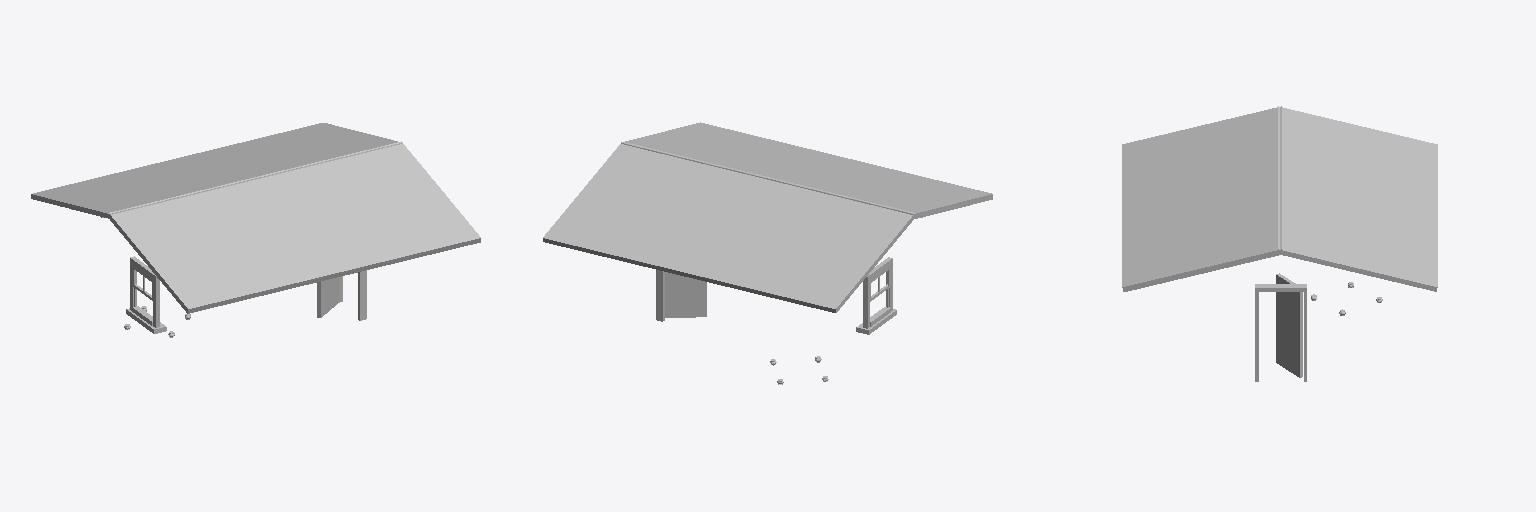
File: LightBrown.obj
3 renders of one model, left to right at view 1: azimuth 30°, elevation 25°; view 2: azimuth 150°, elevation 25°; view 3: azimuth 270°, elevation 25°, orthographic.
Parts seen in each view (by area): view 1: LightBrown; view 2: LightBrown; view 3: LightBrown.
Part boxes in pixels (x1,y1,x2,y2): LightBrown: (31, 123, 480, 337); LightBrown: (543, 122, 992, 384); LightBrown: (1122, 106, 1437, 381).
Bounding box in the file's own units: 65.62 × 33.48 × 61.21.